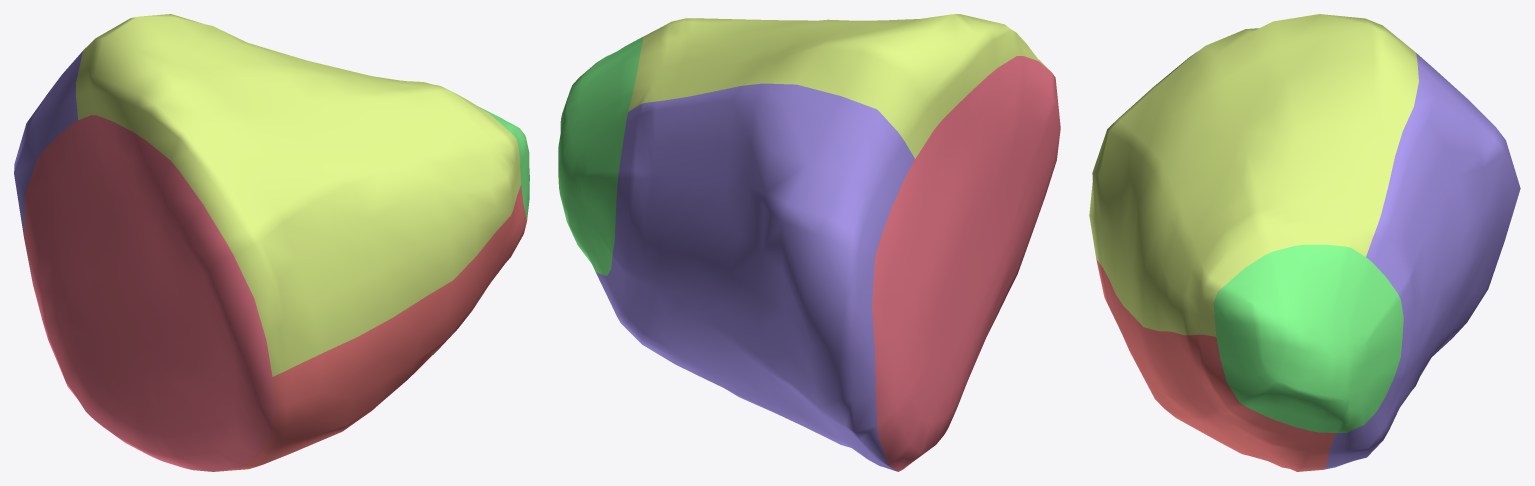
The model's file is Rock_test_low.fbx.
3 views of the same model, side by side, from view 1: azimuth 30°, elevation 25°; view 2: azimuth 150°, elevation 25°; view 3: azimuth 270°, elevation 25° (orthographic). The views are drawn at different scales.
Visible parts, largest first — view 1: Retopo_2; view 2: Retopo_2; view 3: Retopo_2.
Part boxes in pixels (x1,y1,x2,y2): Retopo_2: (14, 14, 529, 471); Retopo_2: (558, 14, 1060, 471); Retopo_2: (1089, 14, 1520, 471).
Bounding box in the file's own units: 150 × 149 × 149.
